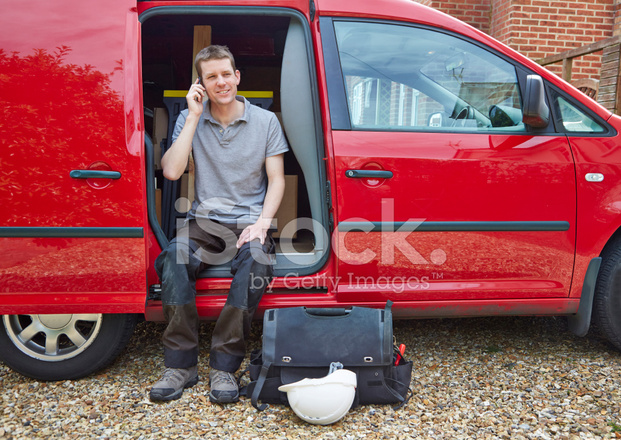phone: (191, 76, 209, 112)
talk: (183, 66, 241, 128)
